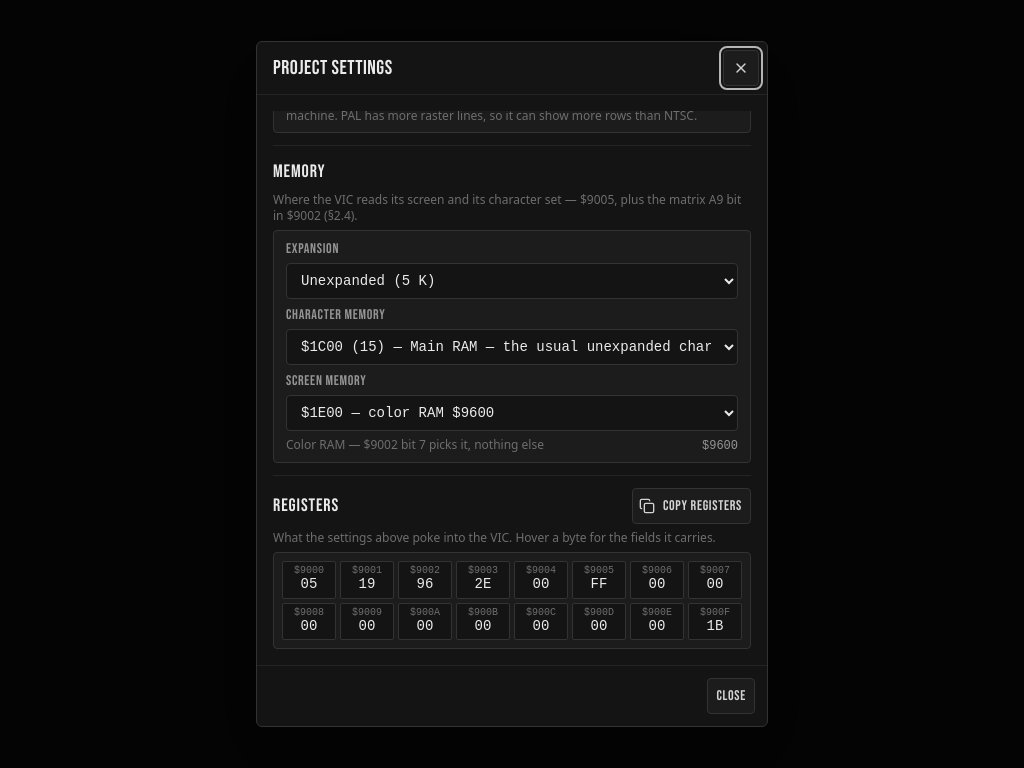
ProjectSettingsDialog › memory (§2.4) › moves the screen, and color RAM follows it
(page scrolled)
Select "$1000 — color RAM $9400" in the dropdown labelled "Screen Memory": (512, 413) [286,395,738,431]
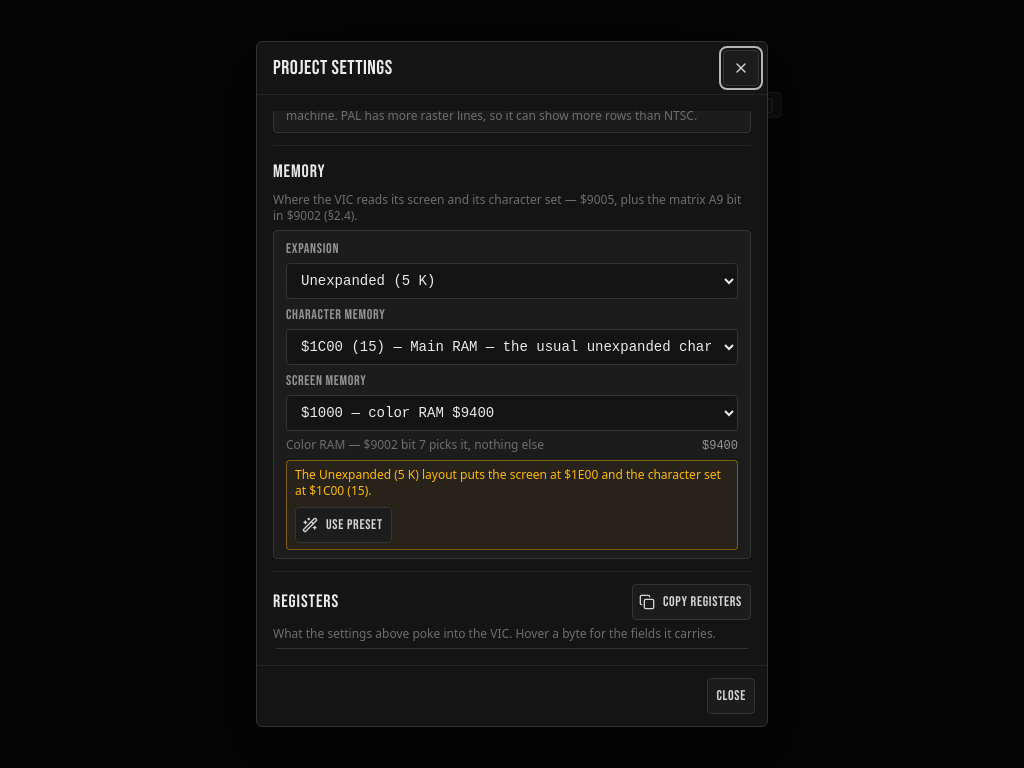
Expected: the text "$9400" is shown, [702,438,738,454]
